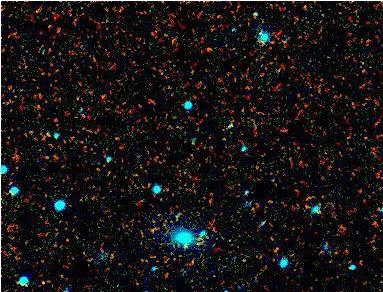star: (169, 230, 199, 260)
